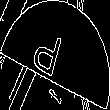P_S: (36, 24, 74, 86)
